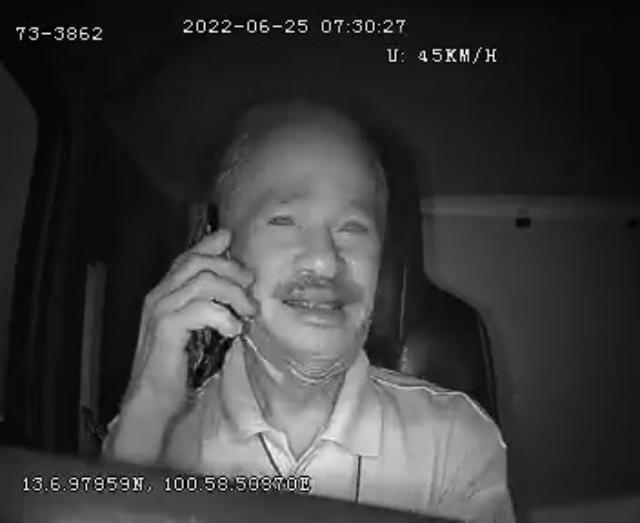PhoneUse: (177, 205, 235, 386)
SafeDriving: (326, 202, 379, 248), (258, 196, 306, 236)
